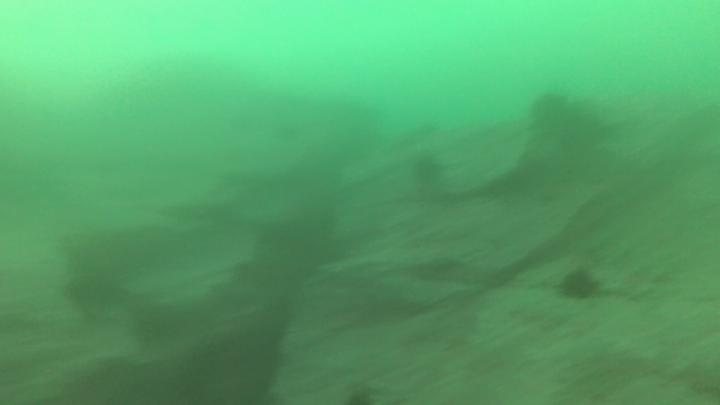echinus: (528, 90, 575, 137), (553, 265, 605, 303), (410, 153, 447, 189), (341, 387, 378, 405)
